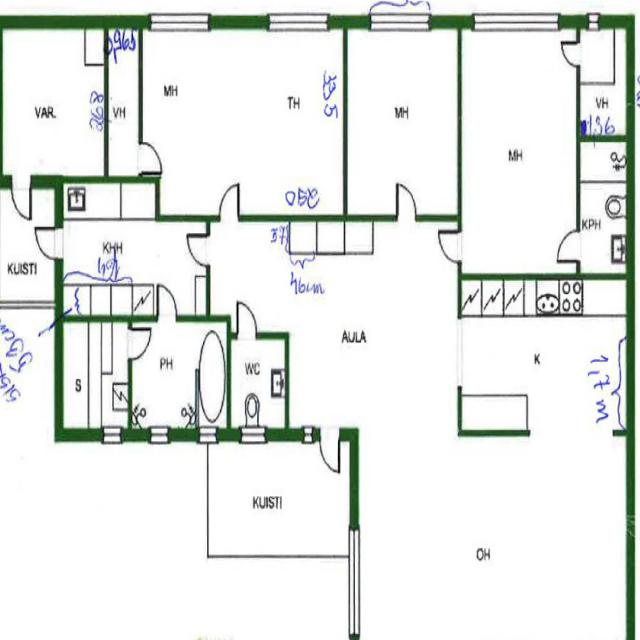door: (11, 176, 31, 221), (35, 228, 63, 260), (320, 428, 339, 472), (438, 231, 462, 263), (557, 230, 581, 262), (138, 142, 162, 174), (237, 301, 257, 339), (187, 234, 210, 266), (220, 184, 239, 221), (397, 184, 416, 221), (128, 328, 151, 358), (158, 285, 176, 322), (561, 42, 581, 66)
